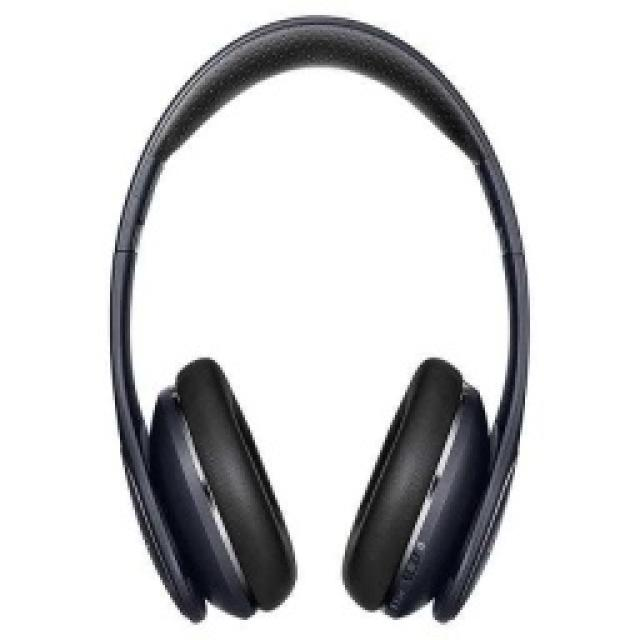headphones: (105, 12, 530, 622)
